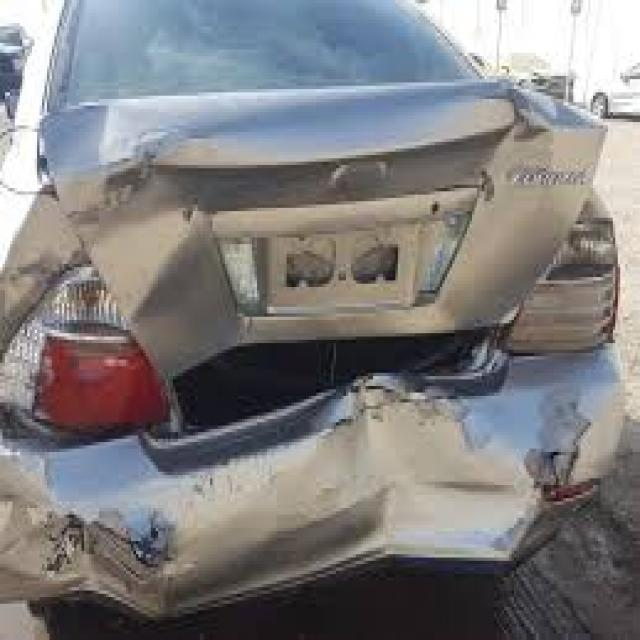damaged-trunk: (55, 72, 598, 386)
